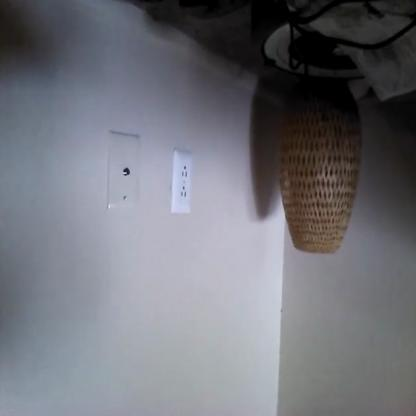OUTLET: (171, 149, 192, 215)
